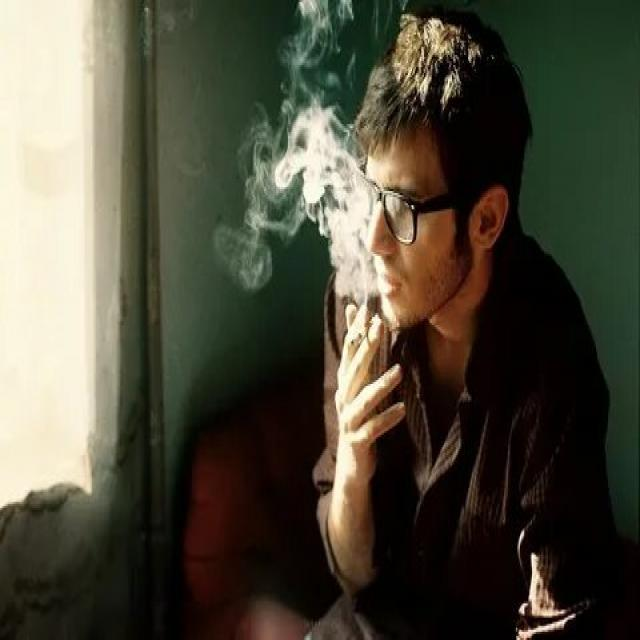smoke: (348, 313, 381, 353)
